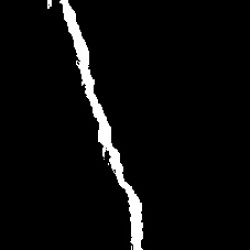crack: (44, 2, 147, 246)
